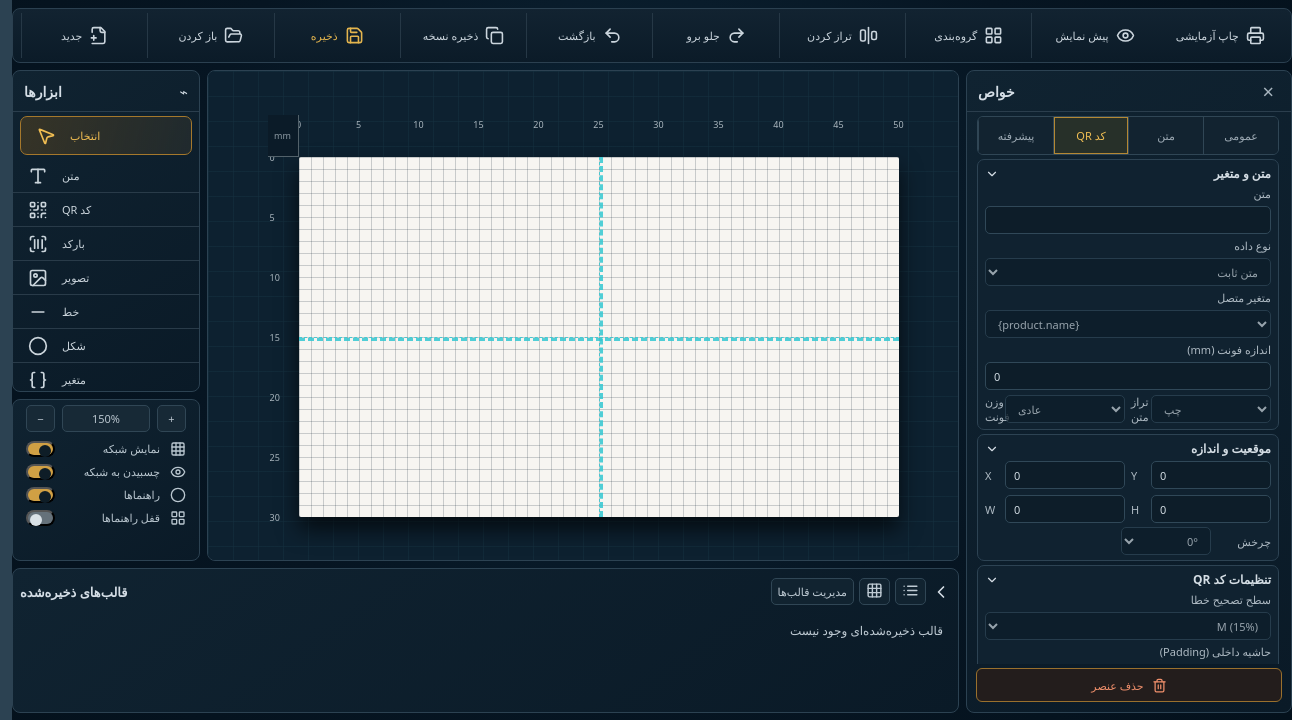
it: editable label designer canvas › adds a dynamic field that shows its resolved sample value
This screenshot has width=1292, height=720.
Click the button "متغیر" at (106, 380), box [13,363,199,397]
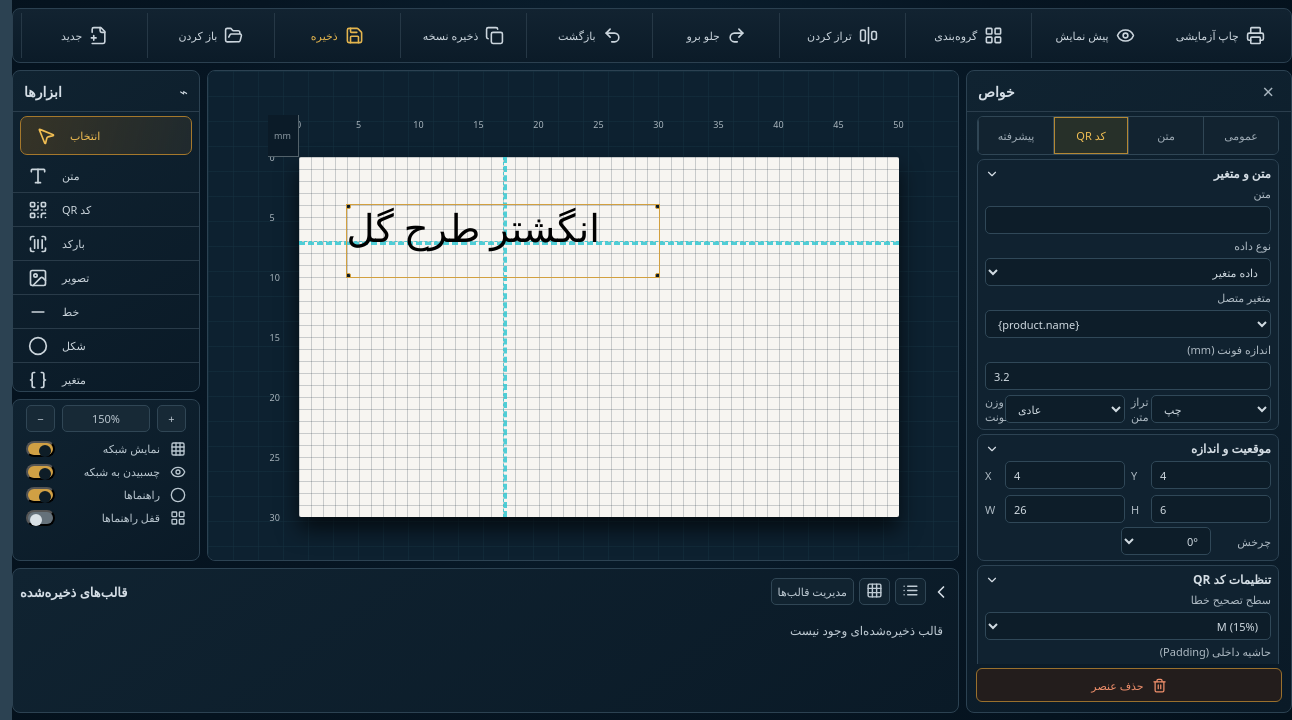
Expected: the text "انگشتر طرح گل" is shown, [346,204,600,252]
